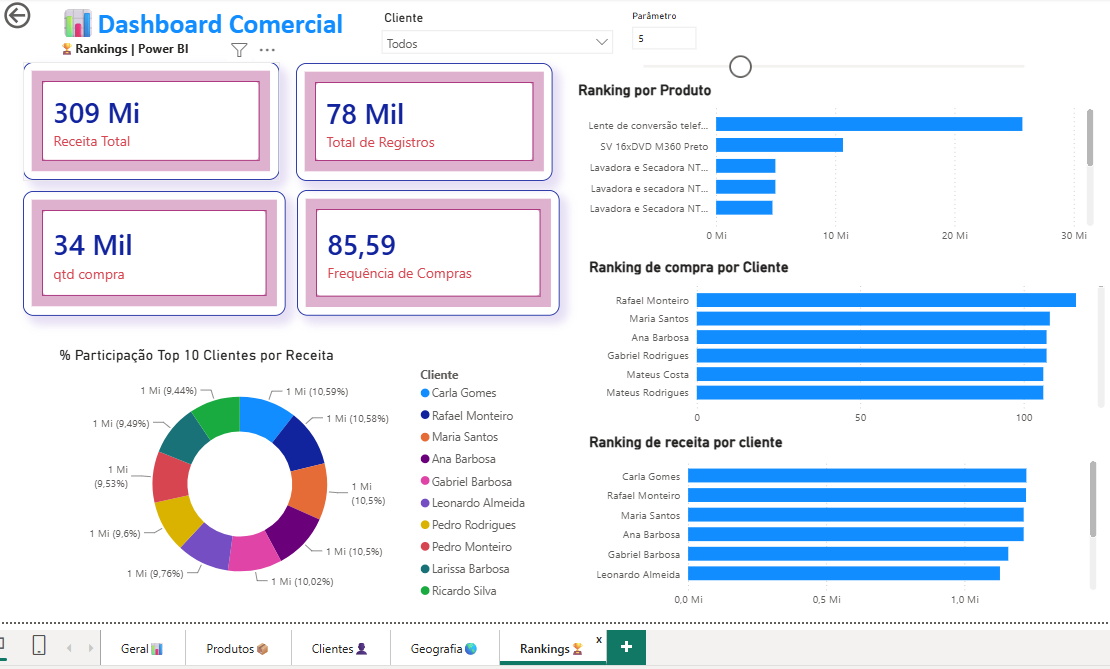

The dashboard page shown, as its layout file describes it:
{"tool":"powerbi","page":{"name":"Rankings🏆","canvas":[1280,720],"ordinal":4},"visuals":[{"type":"clusteredBarChart","title":"Ranking por Produto","fields":{"Category":["BaseVendas.Nome Produto"],"Y":["BaseVendas.Lucro Total"]},"box":[662.3,95.8,604.6,196.2],"z":0},{"type":"clusteredBarChart","title":"Ranking de compra por Cliente","fields":{"Category":["BaseVendas.Cliente"],"Y":["BaseVendas.Compras por Cliente"]},"box":[675,300,604.6,201.9],"z":1000},{"type":"barChart","title":"Ranking de receita por cliente","fields":{"Category":["BaseVendas.Cliente"],"Y":["BaseVendas.Receita Total"]},"box":[675,501.9,595.4,210],"z":2000},{"type":"slicer","fields":{"Values":["BaseVendas.Cliente"]},"box":[430.4,9.2,286.6,65.5],"z":3000},{"type":"textbox","box":[63.5,0,351.9,75],"z":4000},{"type":"cardVisual","fields":{"Data":["BaseVendas.Receita Total"]},"box":[27,74.4,295.6,136.2],"z":5000},{"type":"slicer","fields":{"Values":["Parâmetro.Parâmetro"]},"box":[716.5,9.2,488.4,86.1],"z":8000},{"type":"actionButton","box":[0,0,100,40],"z":10000},{"type":"cardVisual","fields":{"Data":["BaseVendas.Total de Linhas"]},"box":[341.8,74.7,296,135.7],"z":10001},{"type":"donutChart","title":"% Participação Top 10 Clientes por Receita","fields":{"Category":["BaseVendas.Cliente"],"Y":["BaseVendas.Receita Total"]},"box":[63,401,556.5,299.4],"z":10002},{"type":"cardVisual","fields":{"Data":["BaseVendas.qtd compra"]},"box":[27,222.6,303.3,143.9],"z":10003},{"type":"cardVisual","fields":{"Data":["BaseVendas.Frequência de Compras"]},"box":[343.1,222,303,145.1],"z":10004}]}

Visuals, with their boxes on the page's 1280x720 design canvas (x1, y1, x2, y2). These are canvas units, not pixel positions in the 1110x669 screenshot, which may show the page scaled, cropped or inside an application window:
"Ranking por Produto" clusteredBarChart: rect(662, 96, 1267, 292)
"Ranking de compra por Cliente" clusteredBarChart: rect(675, 300, 1280, 502)
"Ranking de receita por cliente" barChart: rect(675, 502, 1270, 712)
slicer - BaseVendas.Cliente: rect(430, 9, 717, 75)
textbox: rect(64, 0, 415, 75)
cardVisual - BaseVendas.Receita Total: rect(27, 74, 323, 211)
slicer - Parâmetro.Parâmetro: rect(716, 9, 1205, 95)
actionButton: rect(0, 0, 100, 40)
cardVisual - BaseVendas.Total de Linhas: rect(342, 75, 638, 210)
"% Participação Top 10 Clientes por Receita" donutChart: rect(63, 401, 620, 700)
cardVisual - BaseVendas.qtd compra: rect(27, 223, 330, 366)
cardVisual - BaseVendas.Frequência de Compras: rect(343, 222, 646, 367)
